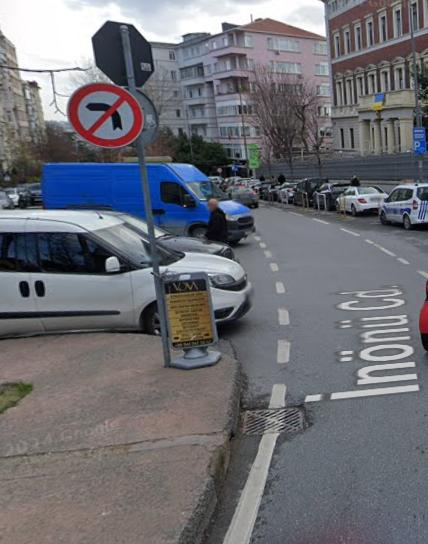leftturnsareforbidden: (69, 84, 145, 145)
